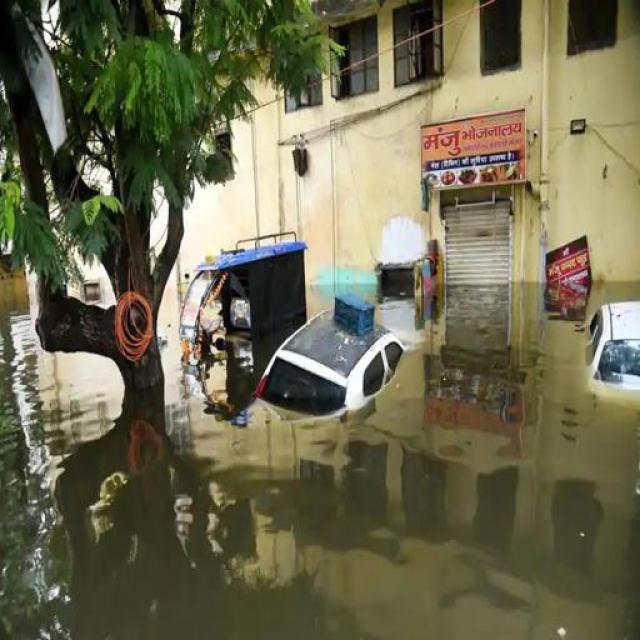puddle: (42, 465, 640, 636), (203, 415, 614, 640), (411, 363, 588, 637), (3, 366, 111, 442)
